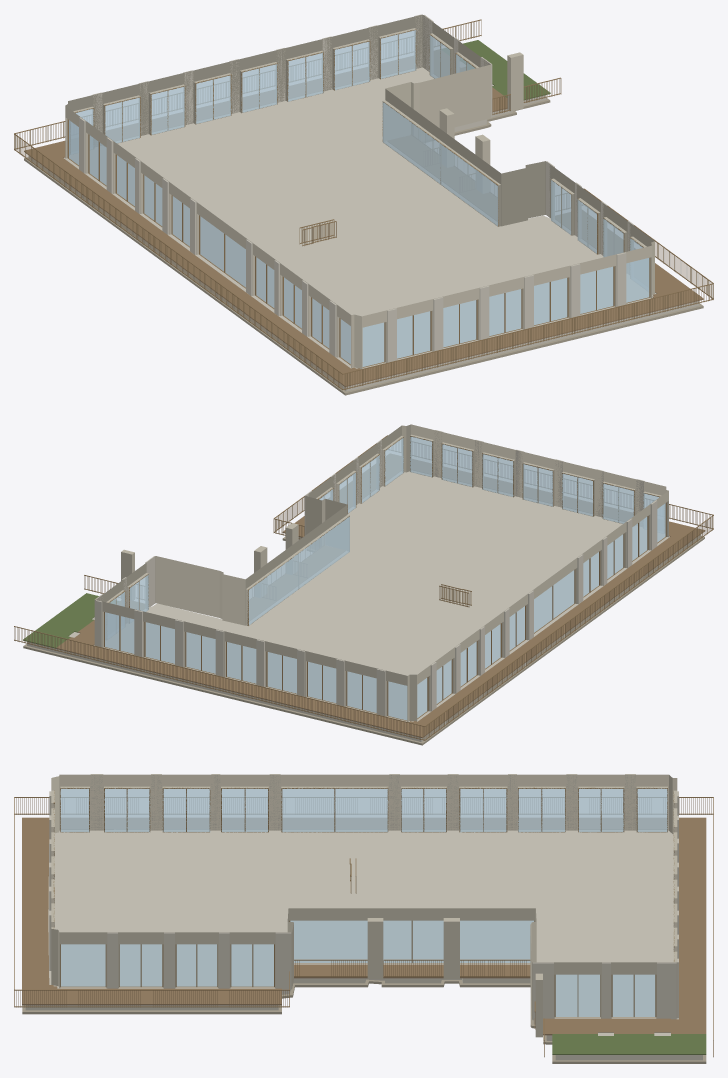
3 renders of one model, top to bottom at view 1: azimuth 30°, elevation 25°; view 2: azimuth 150°, elevation 25°; view 3: azimuth 270°, elevation 25°, orthographic. The views are drawn at different scales.
Bounding box in the file's own units: 31.49 × 3.98 × 38.36.
